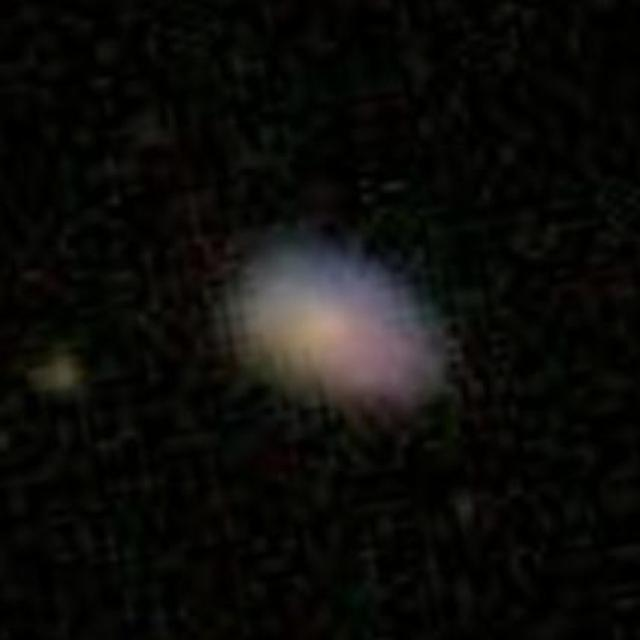galaxy: (202, 218, 482, 440), (27, 351, 91, 400)
